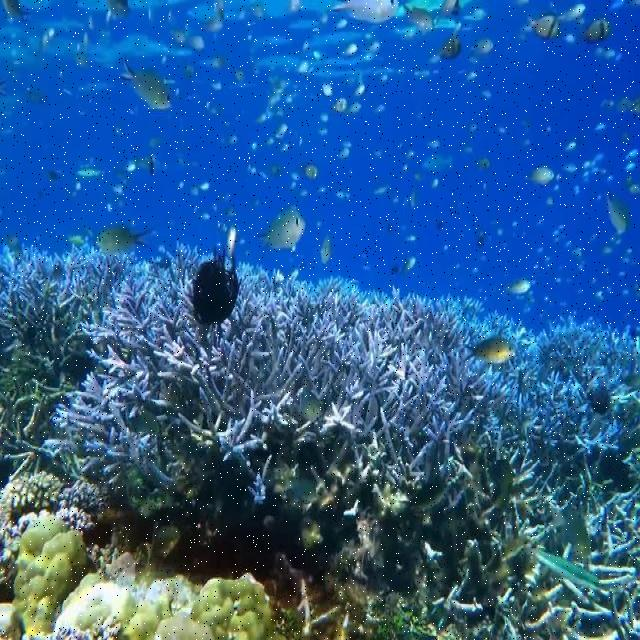fish: (191, 225, 240, 327), (119, 51, 174, 112), (257, 208, 306, 252), (95, 225, 157, 252), (460, 337, 512, 363)
reefs: (1, 239, 639, 639), (0, 524, 277, 639)
